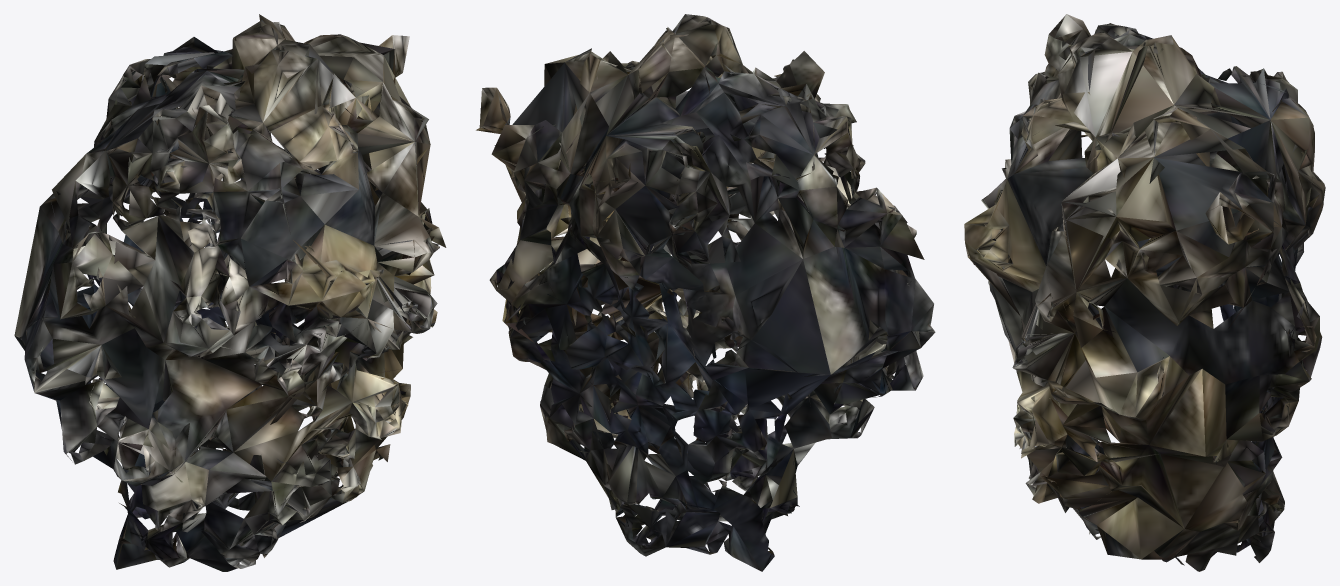
Rendered from rocha_craca_thalor.glb.
3 renders of one model, left to right at view 1: azimuth 30°, elevation 25°; view 2: azimuth 150°, elevation 25°; view 3: azimuth 270°, elevation 25°, orthographic. The views are drawn at different scales.
Parts seen in each view (by area): view 1: geometry_0.001; view 2: geometry_0.001; view 3: geometry_0.001.
Boxes of the visible parts, x1=… form: geometry_0.001: x1=14, y1=14, x2=446, y2=571; geometry_0.001: x1=476, y1=14, x2=935, y2=571; geometry_0.001: x1=964, y1=14, x2=1325, y2=571.
Size of the model in its own units: 0.8438 by 1 by 0.5954.
Materials: 1 (1 with a texture image).
